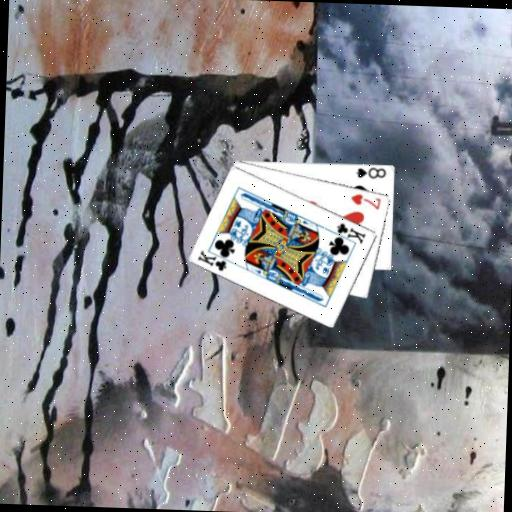7H: (347, 190, 383, 211)
8S: (353, 165, 387, 180)
KC: (328, 219, 368, 246), (195, 246, 235, 273)
